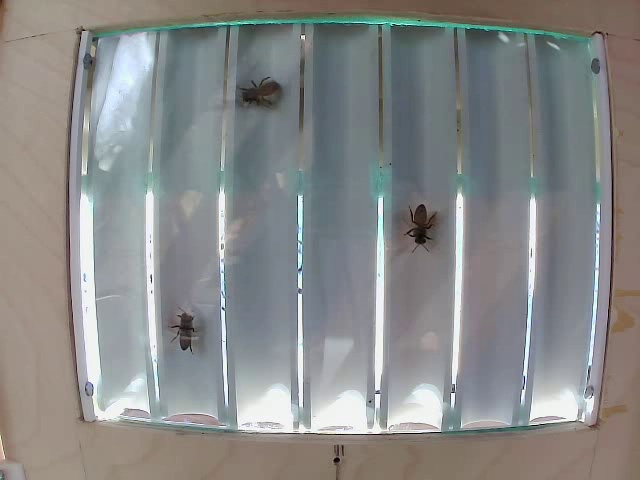bee: (242, 76, 292, 129), (396, 204, 436, 258), (165, 311, 205, 355)
